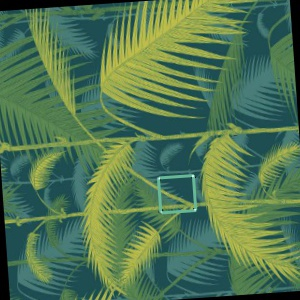square: (154, 172, 200, 216)
